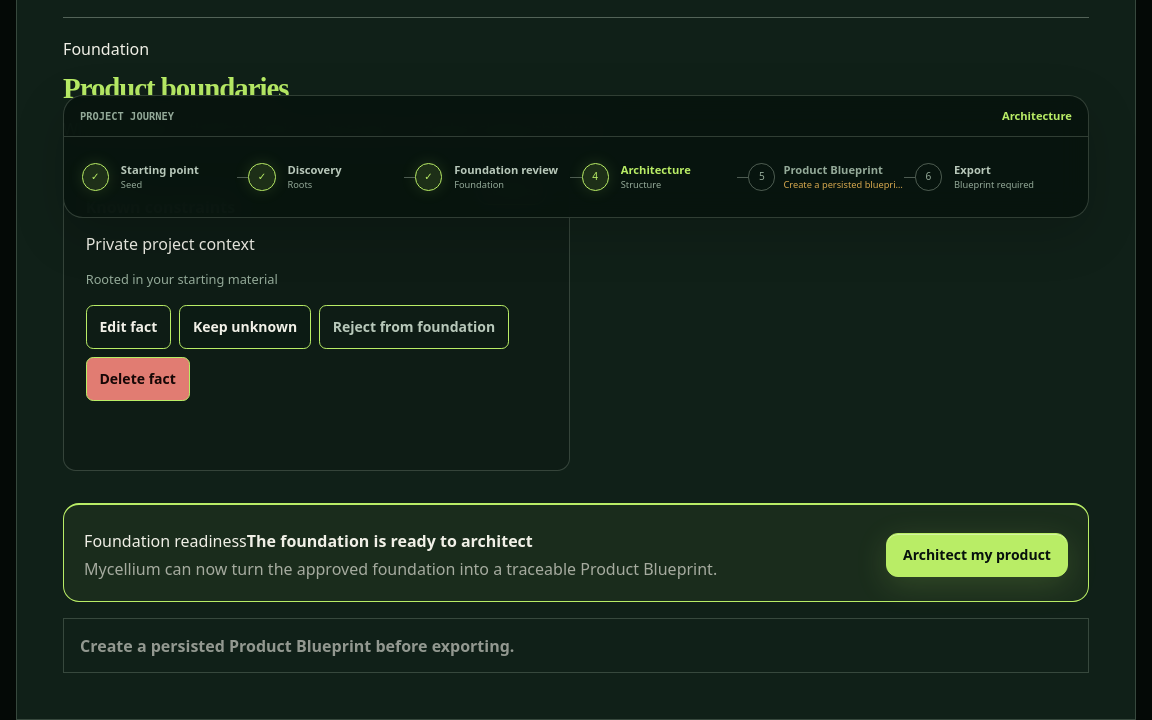
Scenario: blueprint generation recovery › shows a stable retry state for an empty response
The width and height of the screenshot is (1152, 720).
(page scrolled)
Click the button "Architect my product".
click(977, 555)  # box [886,533,1068,577]
(page scrolled)
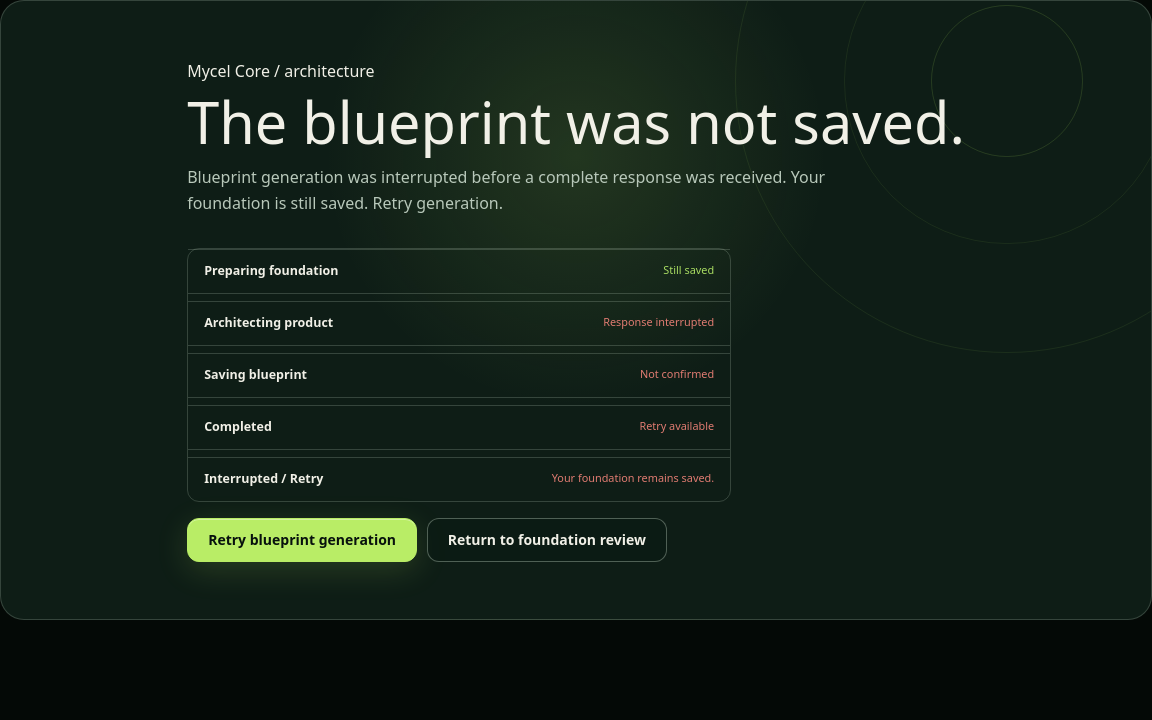
expect the button "Retry blueprint generation" is shown: met, box [187,518,417,562]
expect the text "Blueprint generation was interrupted before a complete response was received. Your foundation is still saved. Retry gene" is shown: met, box [187,166,825,214]
expect the list named "Blueprint generation status" shows "Interrupted / Retry": met, box [204,470,323,487]
